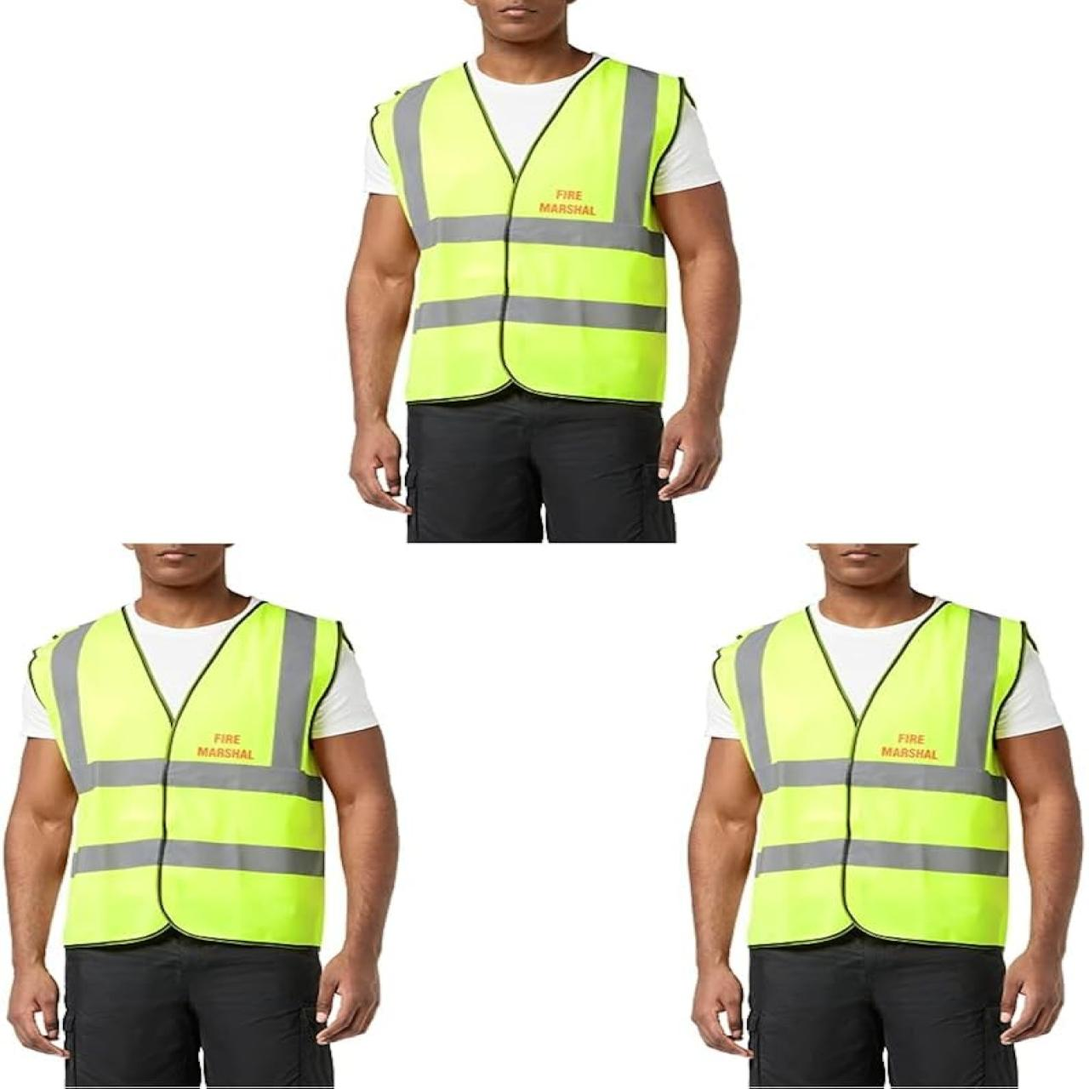Person: (648, 539, 1089, 1089), (309, 0, 752, 544), (14, 539, 402, 1089)
Safety_Vest: (703, 601, 1038, 953), (27, 601, 352, 955), (378, 53, 698, 412)
